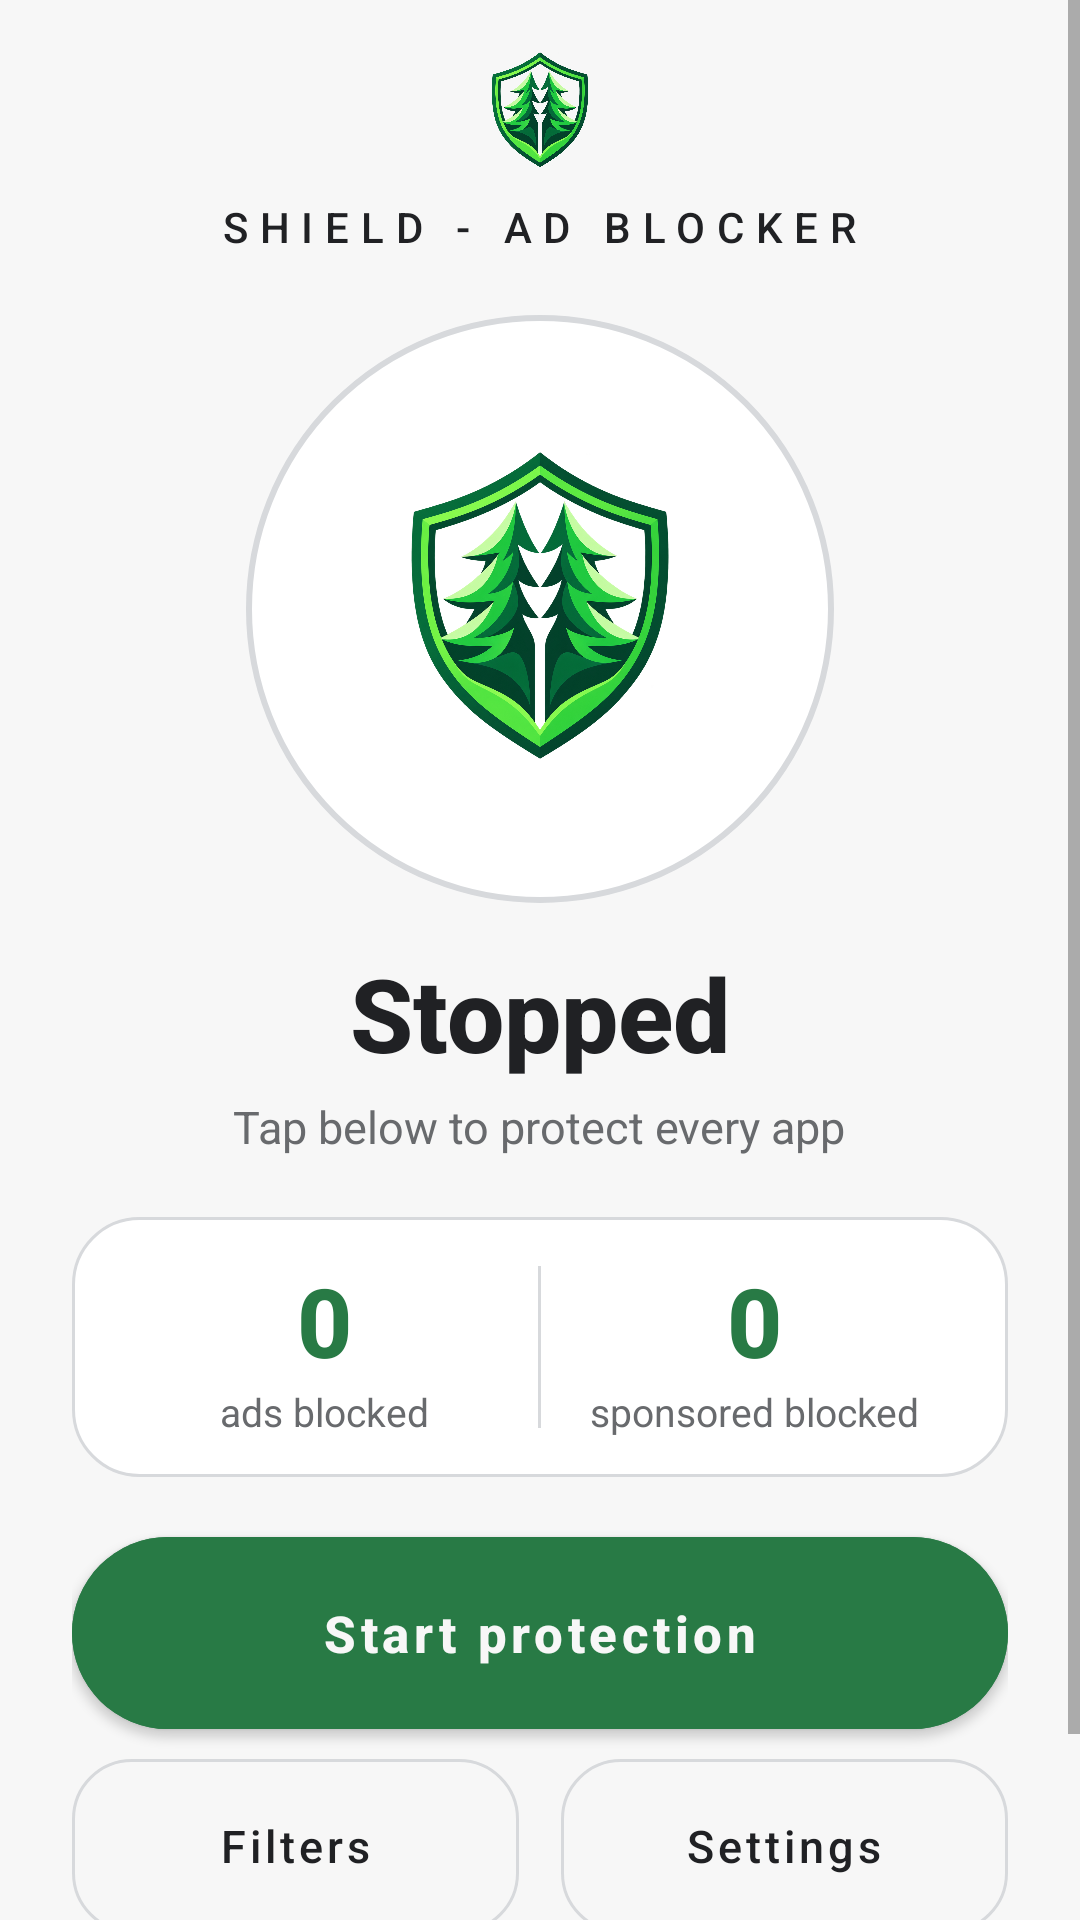

Where to tap for icons on this 1080*1920 app screen, as point (x, y):
forest shield: point (540, 109), point (540, 605)
